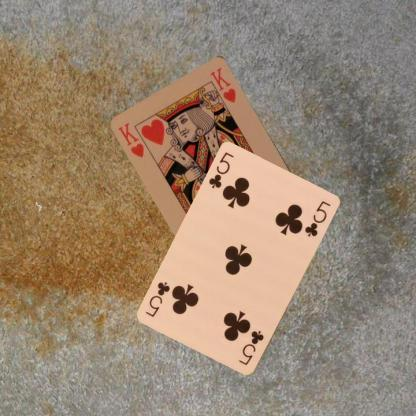5c: (236, 328, 266, 367), (206, 150, 235, 190)
Kh: (116, 119, 146, 159)
